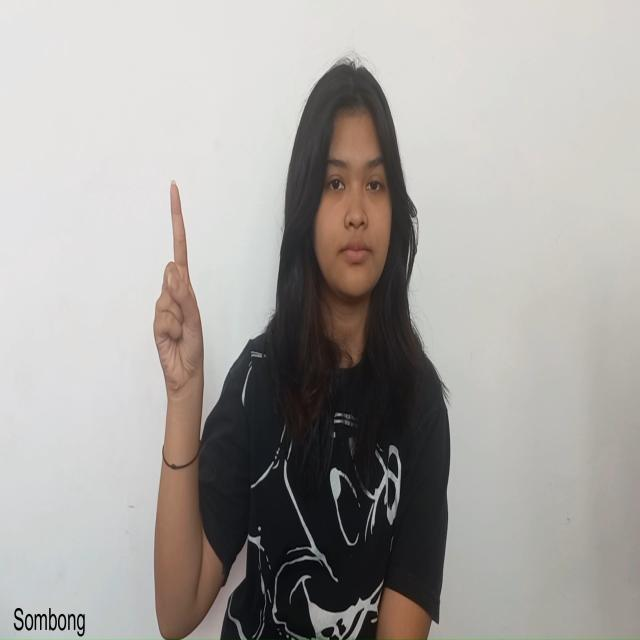Sombong -BISINDO-: (149, 176, 206, 412)
